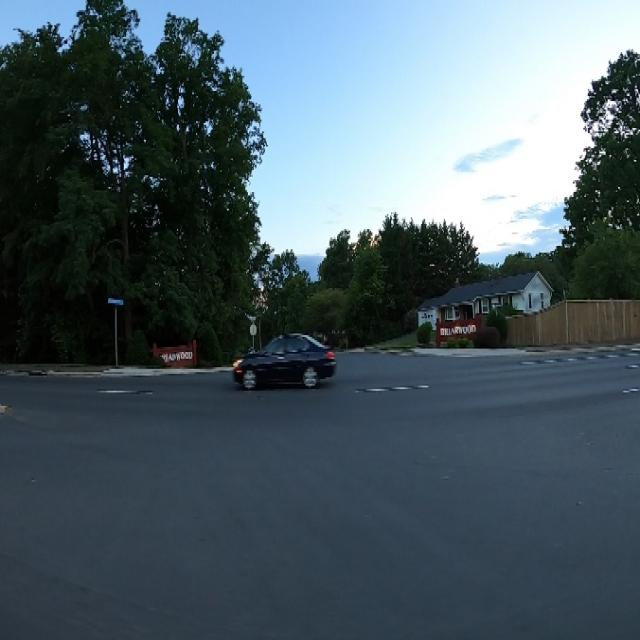car: (229, 320, 340, 399)
